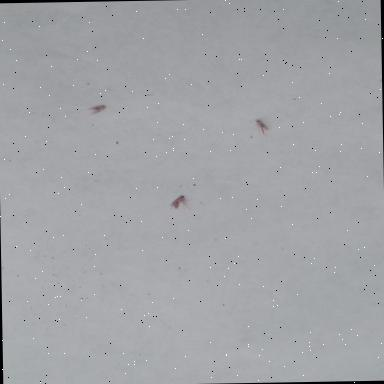pbw: (169, 195, 187, 212), (256, 120, 268, 135), (88, 106, 106, 114)
